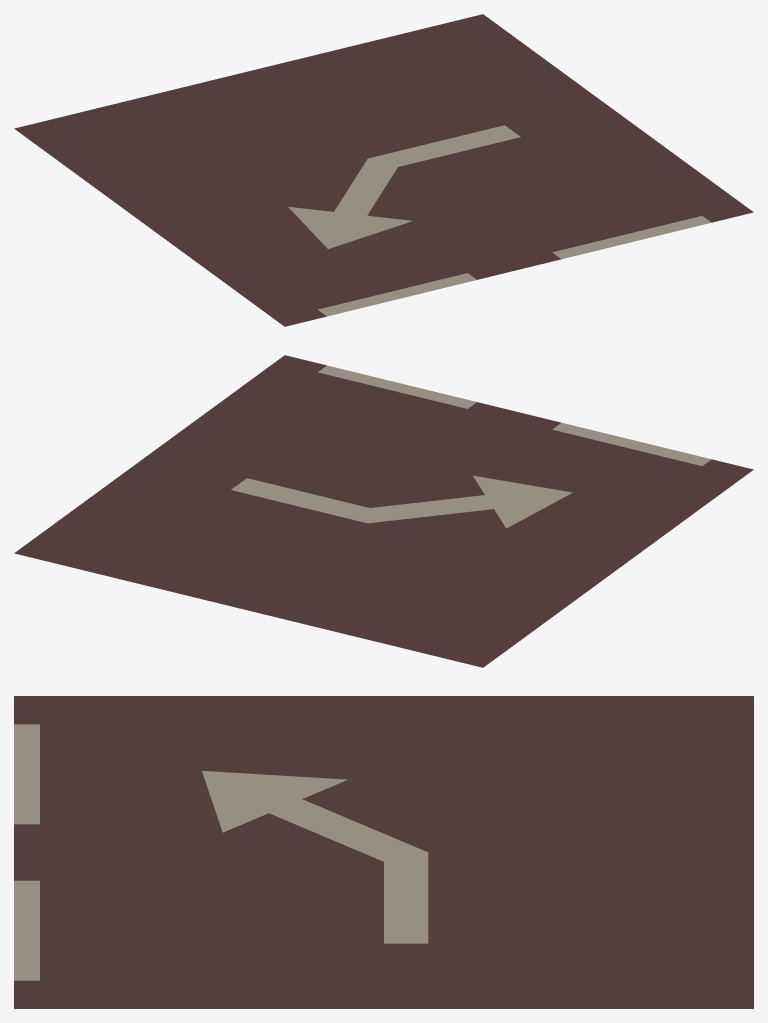
The model's file is Road_6_Transition.fbx.
3 renders of one model, top to bottom at view 1: azimuth 30°, elevation 25°; view 2: azimuth 150°, elevation 25°; view 3: azimuth 270°, elevation 25°, orthographic. The views are drawn at different scales.
Visible parts, largest first — view 1: Road_6_Transition; view 2: Road_6_Transition; view 3: Road_6_Transition.
Boxes of the visible parts, <box> form: Road_6_Transition: <box>14,14,753,326</box>; Road_6_Transition: <box>14,355,753,667</box>; Road_6_Transition: <box>14,696,753,1008</box>.
Size of the model in its own units: 5 by 6.66e-07 by 5.
